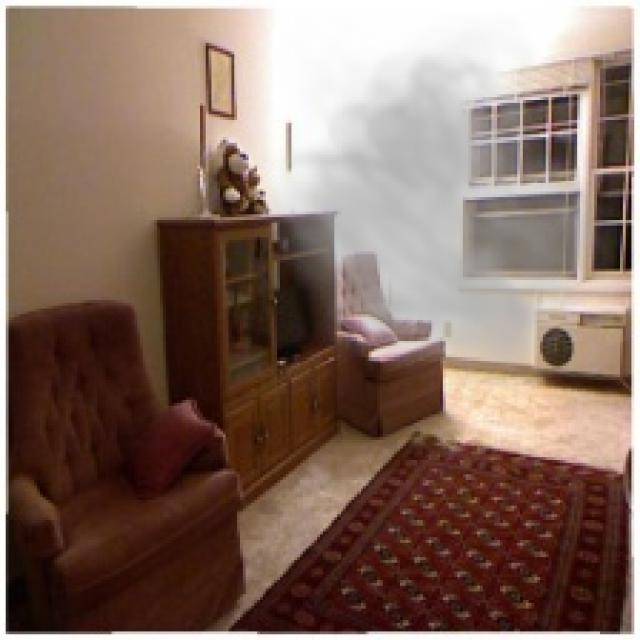smoke: (252, 11, 628, 386)
